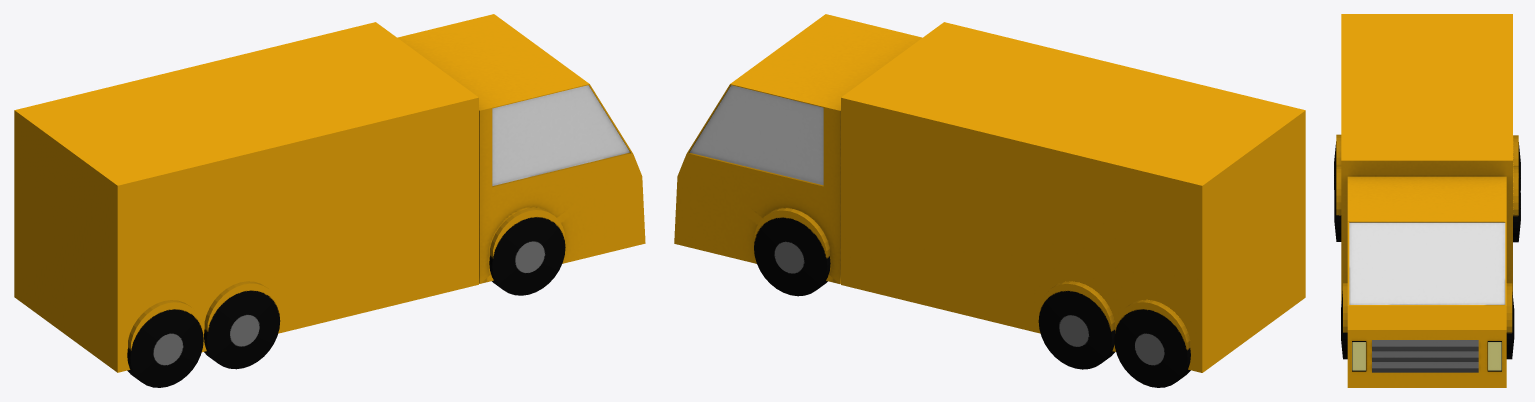
File: lowPolyTruckOLD.glb
The picture shows the model from 3 angles, left to right: view 1: azimuth 30°, elevation 25°; view 2: azimuth 150°, elevation 25°; view 3: azimuth 270°, elevation 25°; orthographic projection. The views are drawn at different scales.
Visible parts, largest first — view 1: Cabin, Cylinder.003, Cylinder.005, Cylinder.002; view 2: Cabin, Cylinder.004, Cylinder.001, Cylinder; view 3: Cabin, metal, Cylinder, Cylinder.001, Cylinder.005, Cylinder.002, left_light, right_light, Cylinder.003, Cylinder.004.
Boxes of the visible parts, x1,y1,x2,y2 form: Cabin: (14,14,645,372); Cylinder.003: (127,300,203,387); Cylinder.005: (204,281,280,369); Cylinder.002: (489,208,565,295); Cabin: (674,14,1305,372); Cylinder.004: (1114,299,1190,387); Cylinder.001: (1038,281,1114,369); Cylinder: (754,208,830,296); Cabin: (1341,14,1512,387); metal: (1372,340,1478,372); Cylinder: (1506,283,1514,359); Cylinder.001: (1513,166,1520,242); Cylinder.005: (1334,165,1341,241); Cylinder.002: (1341,283,1347,359); left_light: (1352,341,1366,371); right_light: (1487,341,1501,371); Cylinder.003: (1334,134,1341,190); Cylinder.004: (1513,135,1520,190).
Size of the model in its own units: 6.44 by 2.43 by 2.35.
Materials: 4 (4 with a texture image).
